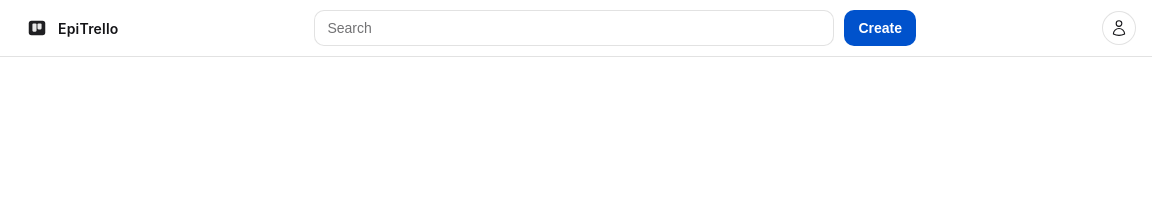
Test: components/TopBar › clicking outside closes menu and theme when menuOpen is true
The image size is (1152, 203).
Click the button named "profile".
click(1119, 28)  # box [1102, 11, 1136, 45]
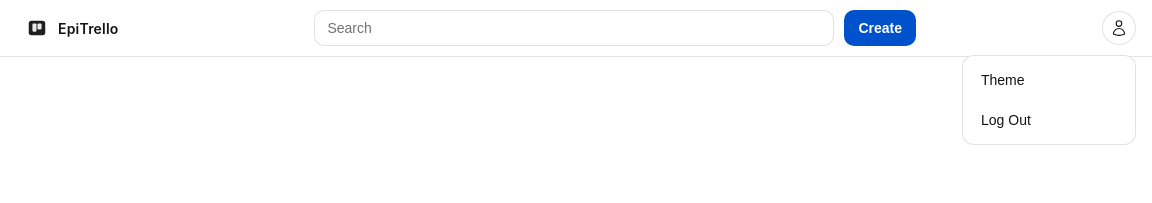
Click the button "Theme".
click(1049, 80)  # box [969, 62, 1129, 98]
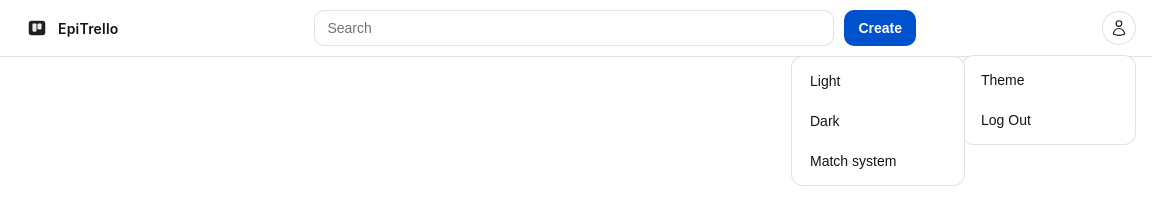
Expected: the button "Match system" is shown, [798, 143, 958, 179]
Press the mouse on the element showing "EpiTrello Create Theme Log Out Light Dark Match system" at (576, 28), box [0, 0, 1151, 57]
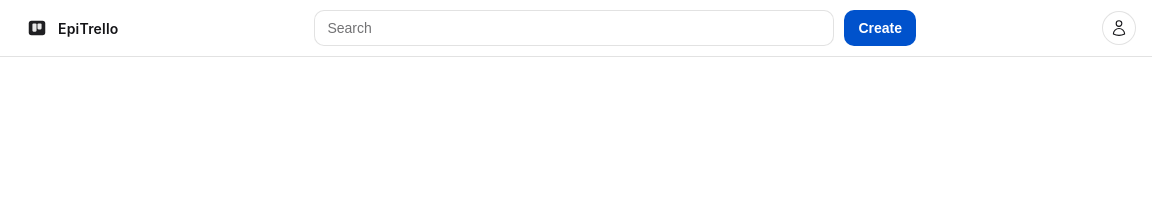
Expected: the button "Theme" is gone
Expected: the button "Match system" is gone
